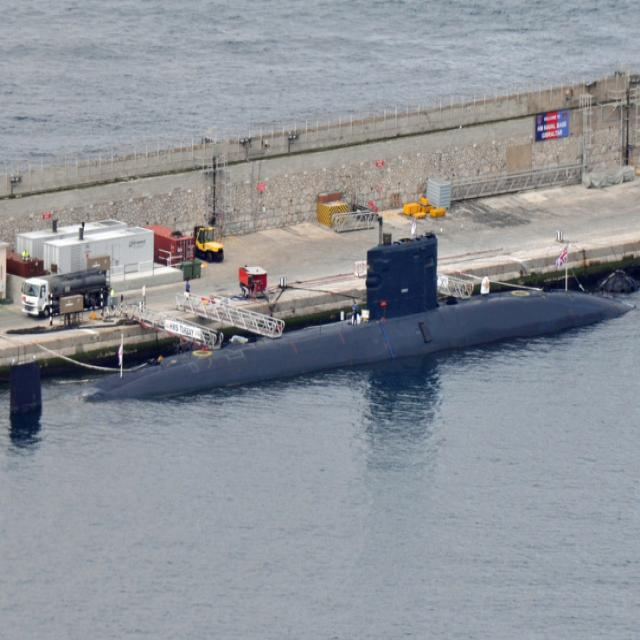submarine: (5, 221, 640, 430)
